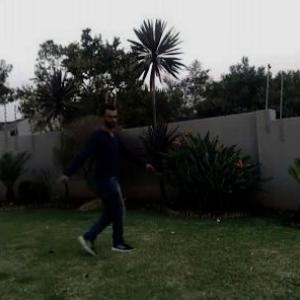land: (47, 90, 160, 277)
